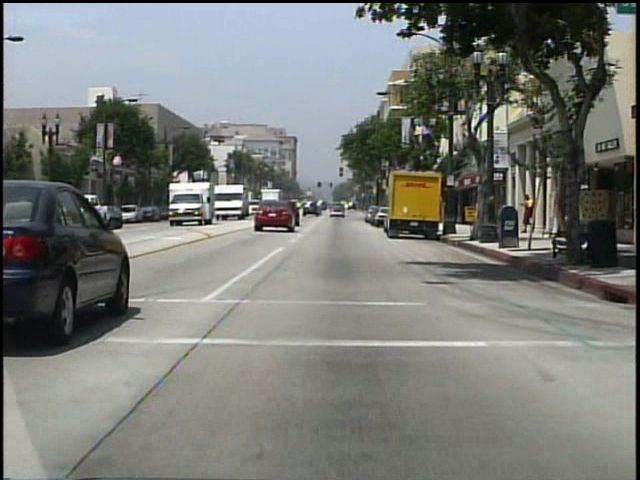person: (522, 194, 533, 236)
